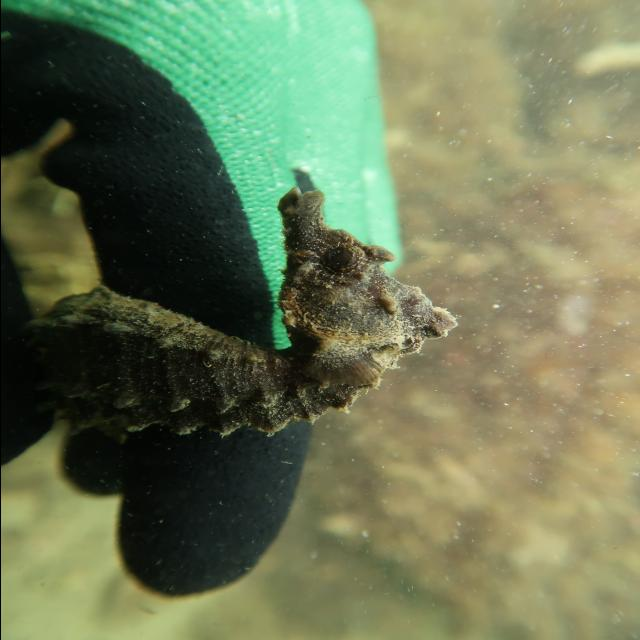Hippo: (262, 180, 470, 363)
